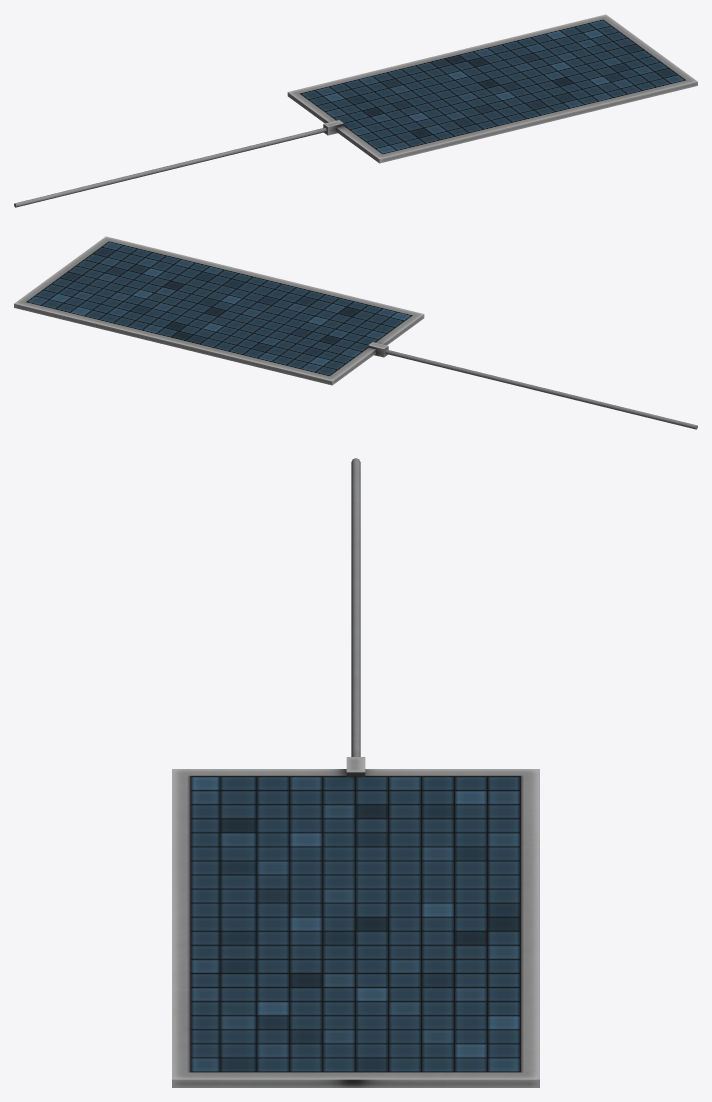
The model's file is octans_solar_basic_srf_1_panel_4_right.obj.
3 renders of one model, top to bottom at view 1: azimuth 30°, elevation 25°; view 2: azimuth 150°, elevation 25°; view 3: azimuth 270°, elevation 25°, orthographic. The views are drawn at different scales.
Parts seen in each view (by area): view 1: mesh; view 2: mesh; view 3: mesh.
Boxes of the visible parts, x1,y1,x2,y2 form: mesh: [14, 14, 697, 207]; mesh: [14, 236, 697, 429]; mesh: [172, 458, 539, 1087].
Size of the model in its own units: 2 by 0.025 by 0.5.
Materials: 1 (1 with a texture image).
